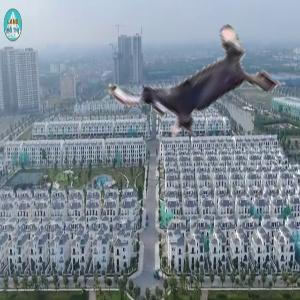drone: (126, 7, 295, 176)
